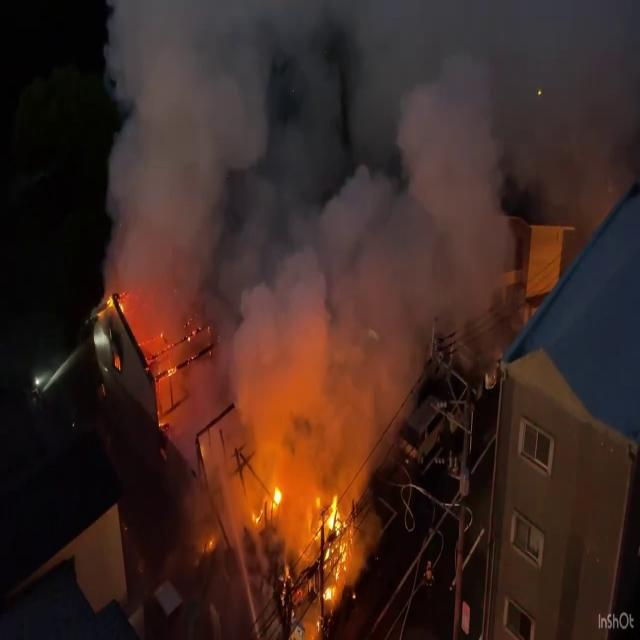Fire: (312, 488, 361, 596)
Smoke: (92, 0, 636, 484)
